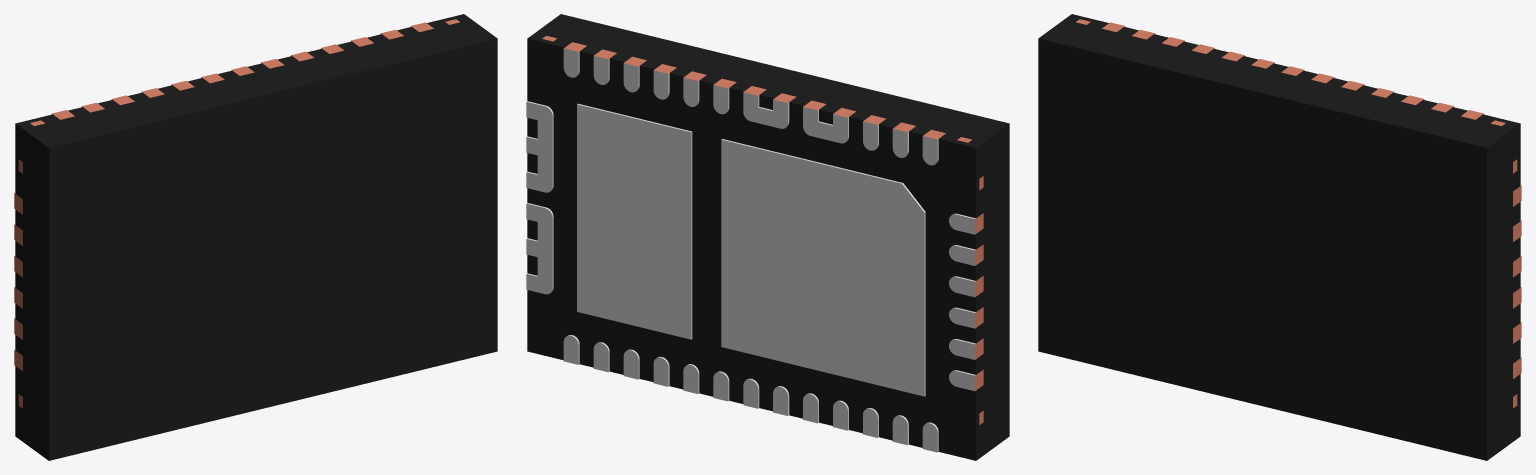
File: TPS25751DREFR.glb
The picture shows the model from 3 angles, left to right: view 1: azimuth 30°, elevation 25°; view 2: azimuth 150°, elevation 25°; view 3: azimuth 330°, elevation 25°; orthographic projection.
Parts seen in each view (by area): view 1: BODY-QFN, FRAME-REF0038A; view 2: FRAME-REF0038A, BODY-QFN; view 3: BODY-QFN, FRAME-REF0038A.
Part boxes in pixels (x1=…): BODY-QFN: x1=15, y1=14, x2=497, y2=460; FRAME-REF0038A: x1=14, y1=19, x2=459, y2=408; FRAME-REF0038A: x1=526, y1=35, x2=983, y2=452; BODY-QFN: x1=527, y1=14, x2=1009, y2=460; BODY-QFN: x1=1038, y1=14, x2=1520, y2=460; FRAME-REF0038A: x1=1076, y1=19, x2=1521, y2=408.
Bounding box in the file's own units: 0.006 × 0.004 × 0.0008.
